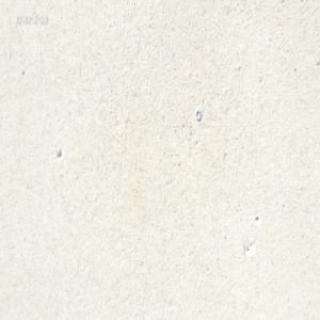Washertrack_idkeyframe: (194, 108, 202, 122)
